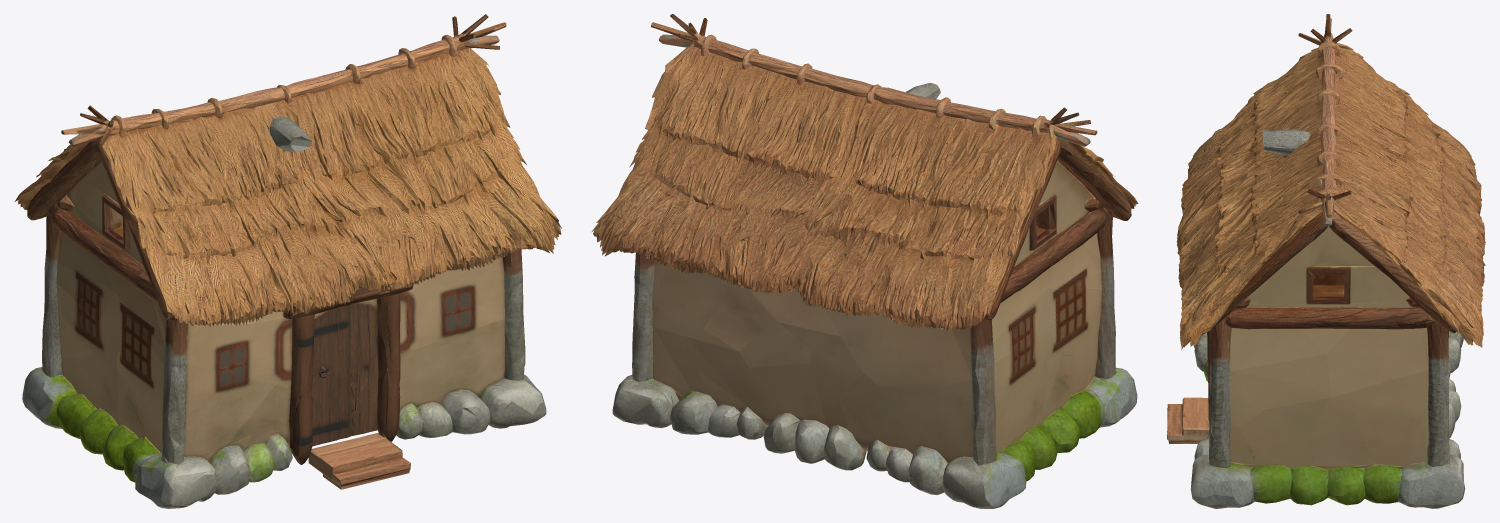
Rendered from house.glb.
3 views of the same model, side by side, from view 1: azimuth 30°, elevation 25°; view 2: azimuth 150°, elevation 25°; view 3: azimuth 270°, elevation 25° (orthographic). The views are drawn at different scales.
Bounding box in the file's own units: 1.9 × 1.46 × 1.3.
1 material, 1 textured.
